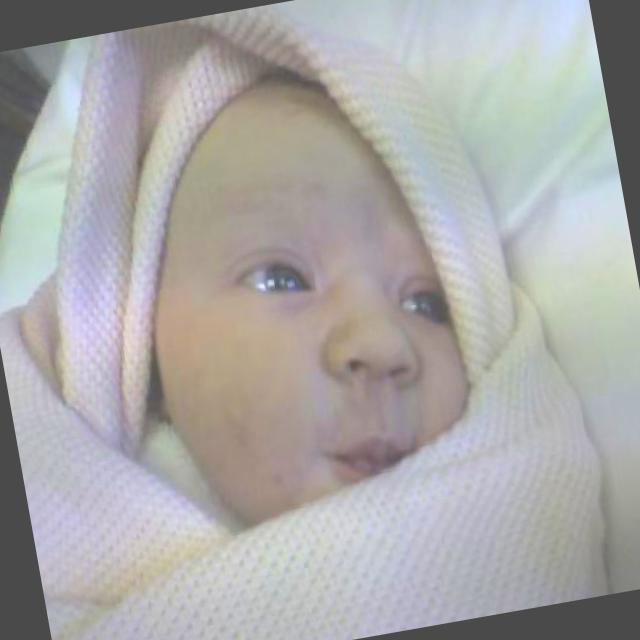Person: (80, 46, 500, 570)
